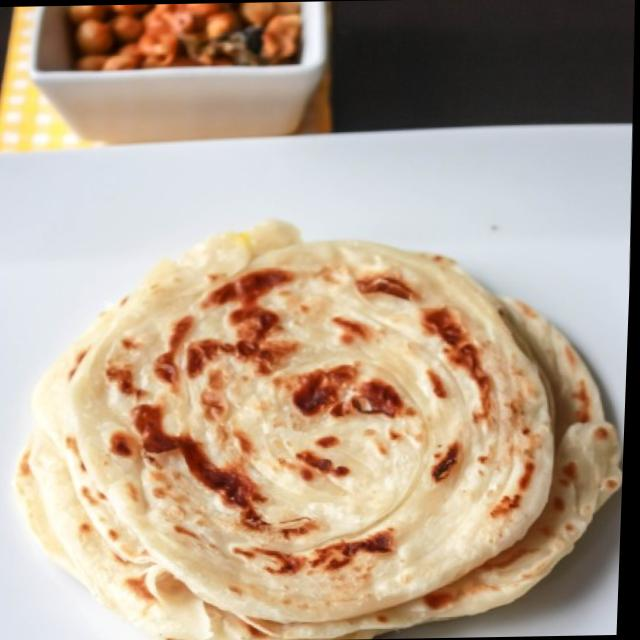CURRY: (59, 0, 305, 67)
PAROTTA: (10, 214, 624, 637)
